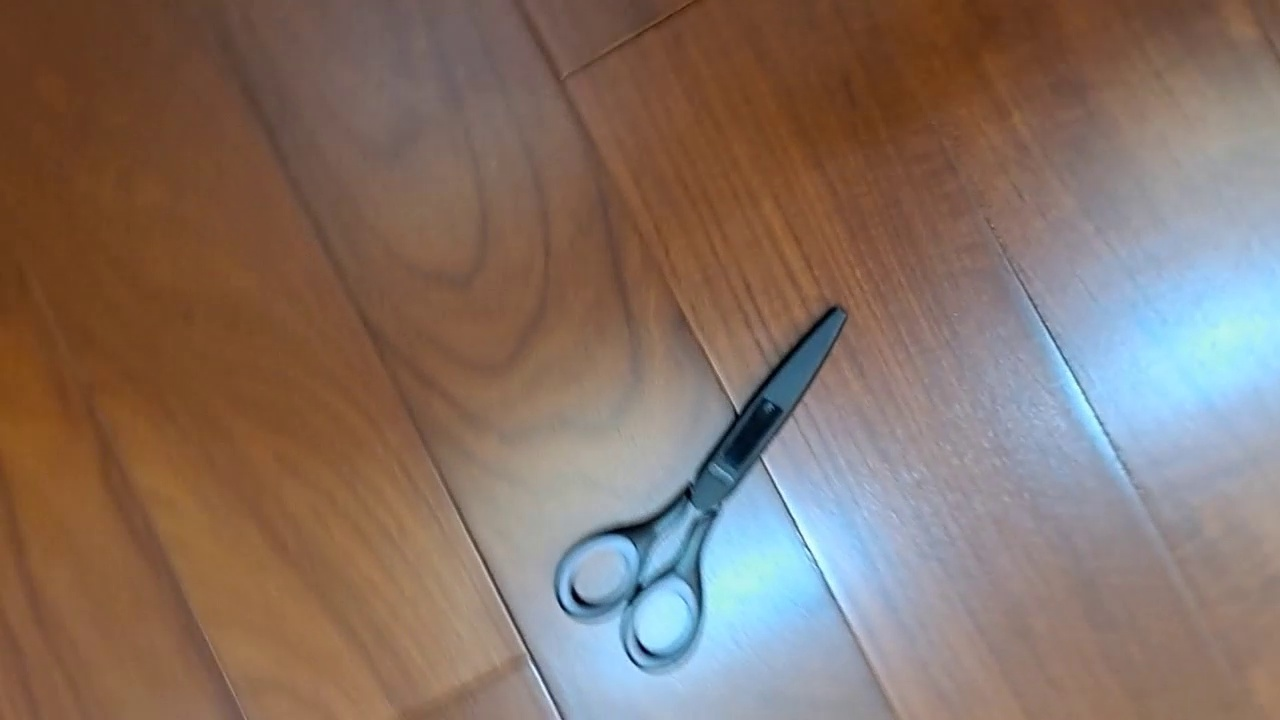scissors: (552, 303, 849, 674)
